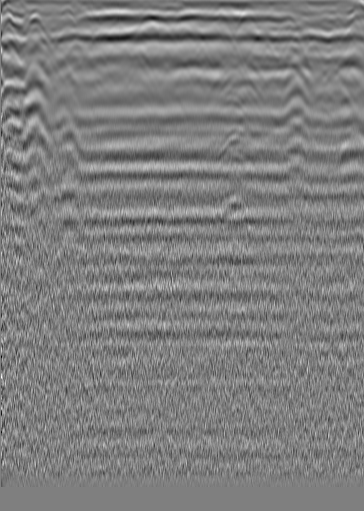가스: (216, 190, 247, 223)
상수: (309, 35, 329, 55)
오수: (22, 8, 48, 36)
우수: (161, 35, 181, 55)
